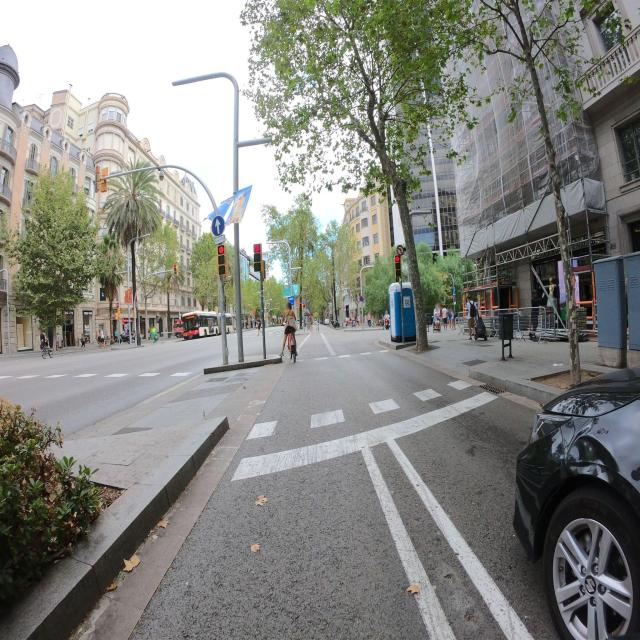bike: (280, 324, 298, 363)
car: (512, 348, 640, 640), (382, 310, 390, 330)
